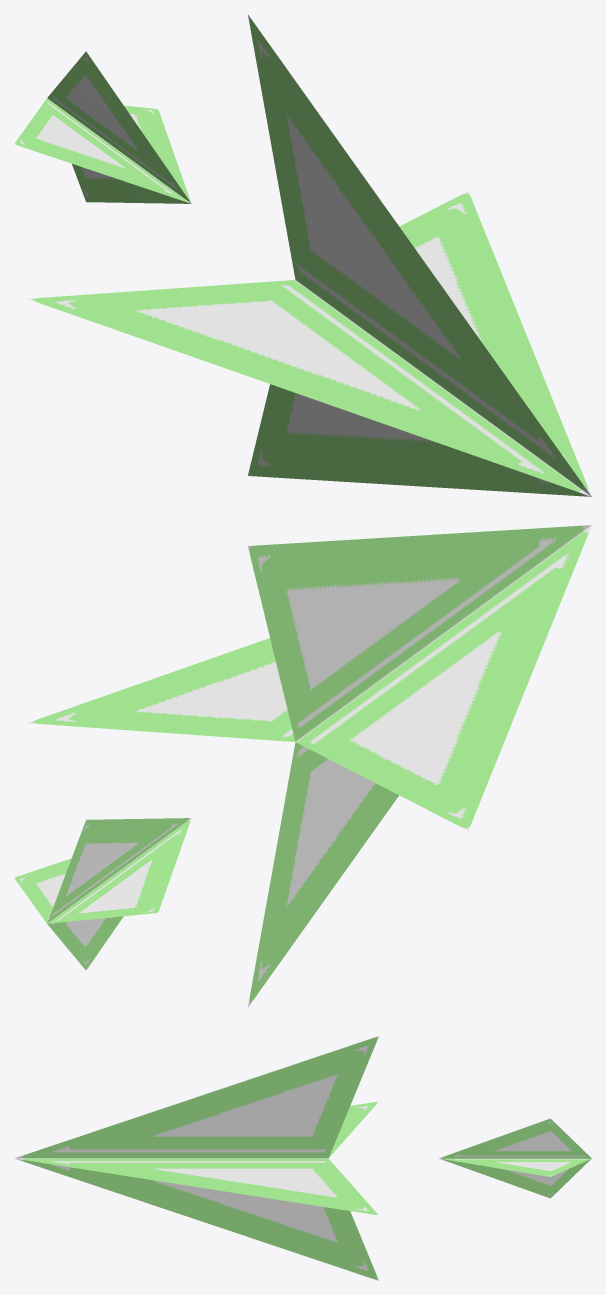
Rendered from navi.fbx.
3 renders of one model, top to bottom at view 1: azimuth 30°, elevation 25°; view 2: azimuth 150°, elevation 25°; view 3: azimuth 270°, elevation 25°, orthographic. The views are drawn at different scales.
Parts seen in each view (by area): view 1: navi2, navi1; view 2: navi2, navi1; view 3: navi2, navi1.
Boxes of the visible parts, x1,y1,x2,y2 form: navi2: (27, 15, 591, 496); navi1: (14, 51, 191, 203); navi2: (27, 525, 591, 1006); navi1: (14, 818, 191, 970); navi2: (14, 1036, 378, 1280); navi1: (439, 1118, 591, 1198).
Bounding box in the file's own units: 62.83 × 62.83 × 134.
1 material, 1 textured.
